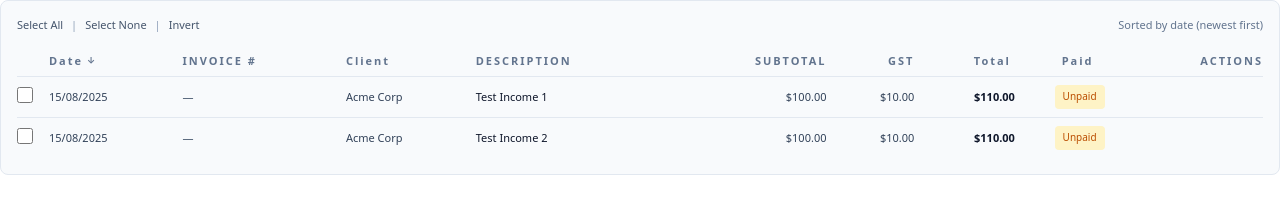
Test: IncomesTable › Bulk Operations › clears selection after bulk delete
Click the checkbox named "select income" at (25, 95), box [17, 87, 33, 103]
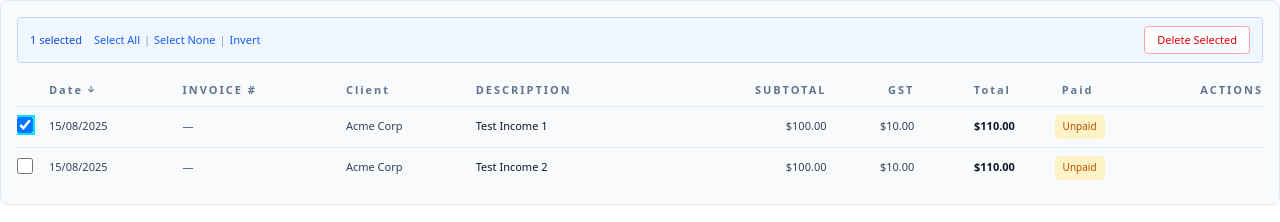
Click the button "Delete Selected" at (1197, 40), box [1144, 26, 1250, 54]
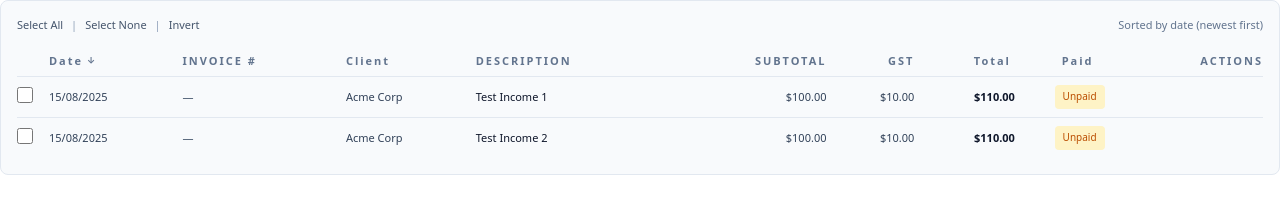
Now the text "selected" is gone
